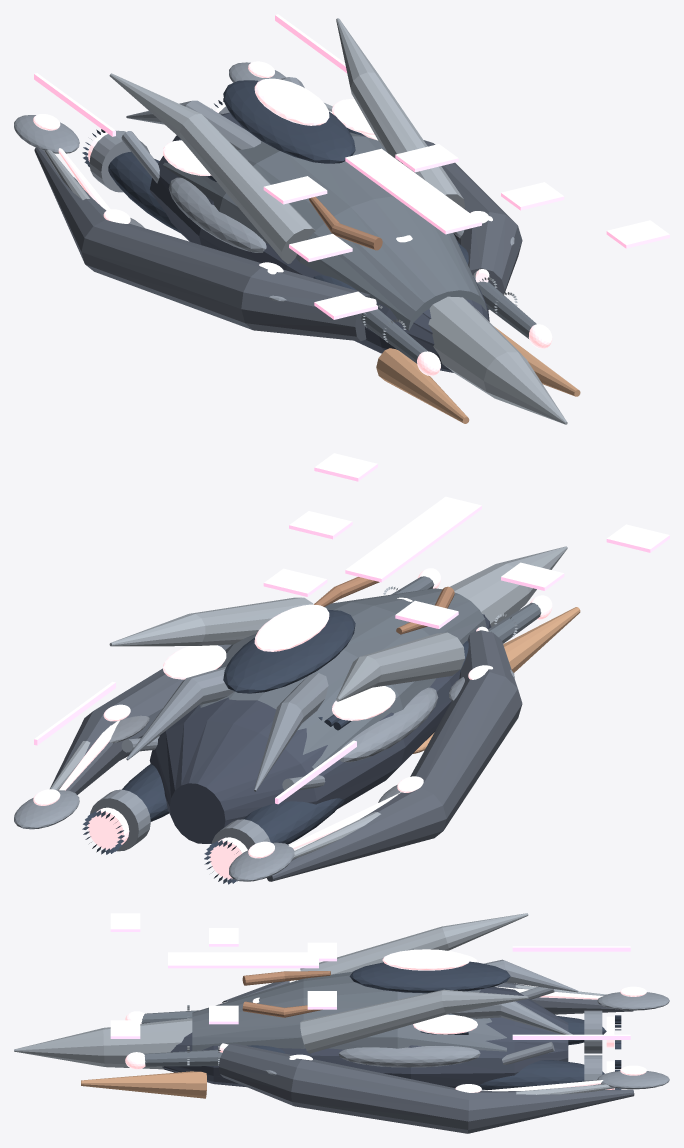
Rendered from npc_bossSaimon.glb.
The picture shows the model from 3 angles, top to bottom: view 1: azimuth 30°, elevation 25°; view 2: azimuth 150°, elevation 25°; view 3: azimuth 270°, elevation 25°; orthographic projection. The views are drawn at different scales.
Parts seen in each view (by area): view 1: upper_armor_scar, armored_scythe_-1, V59 trim baked, prime_arch_back_-1, zyron_stinger, prime_arch_back_1, prime_reactor_tower, keel_pressure_hull, armored_scythe_1, heavy_shield_pad_-1, prime_secondary_horn_-1, prime_emitter (+12 smaller); view 2: keel_pressure_hull, armored_scythe_-1, V59 trim baked, upper_armor_scar, prime_reactor_tower, prime_arch_back_-1, prime_arch_back_1, armored_scythe_1, zyron_stinger, zyron_upper_blade_-1, heavy_shield_pad_-1, zyron_upper_blade_1 (+18 smaller); view 3: armored_scythe_1, upper_armor_scar, V59 trim baked, keel_pressure_hull, prime_arch_back_1, zyron_stinger, prime_reactor_tower, prime_arch_back_-1, heavy_shield_pad_1, prime_secondary_horn_1, engine_armor_1, prime_emitter (+17 smaller).
Boxes of the visible parts, x1,y1,x2,y2 form: upper_armor_scar: (162, 128, 486, 330); armored_scythe_-1: (34, 148, 370, 341); V59 trim baked: (34, 14, 669, 319); prime_arch_back_-1: (109, 73, 315, 263); zyron_stinger: (428, 296, 567, 424); prime_arch_back_1: (336, 18, 464, 208); prime_reactor_tower: (223, 80, 355, 163); keel_pressure_hull: (150, 112, 489, 372); armored_scythe_1: (423, 140, 522, 309); heavy_shield_pad_-1: (168, 177, 266, 252); prime_secondary_horn_-1: (376, 348, 469, 423); prime_emitter: (254, 78, 329, 125); keel_pressure_hull: (149, 614, 491, 843); armored_scythe_-1: (267, 630, 522, 881); V59 trim baked: (34, 453, 669, 804); upper_armor_scar: (200, 588, 486, 769); prime_reactor_tower: (223, 610, 355, 693); prime_arch_back_-1: (336, 632, 464, 701); prime_arch_back_1: (109, 597, 313, 646); armored_scythe_1: (50, 644, 231, 794); zyron_stinger: (450, 546, 567, 626); zyron_upper_blade_-1: (254, 673, 328, 791); heavy_shield_pad_-1: (339, 687, 438, 762); zyron_upper_blade_1: (126, 666, 234, 760); armored_scythe_1: (218, 1043, 634, 1133); upper_armor_scar: (192, 971, 506, 1051); V59 trim baked: (110, 913, 630, 1039); keel_pressure_hull: (162, 986, 568, 1088); prime_arch_back_1: (300, 989, 528, 1053); zyron_stinger: (14, 1018, 192, 1069); prime_reactor_tower: (349, 961, 510, 993); prime_arch_back_-1: (300, 913, 528, 974); heavy_shield_pad_1: (339, 1046, 480, 1067); prime_secondary_horn_1: (81, 1071, 206, 1098); engine_armor_1: (479, 1060, 604, 1089); prime_emitter: (382, 949, 470, 970).
Bounding box in the file's own units: 2.82 × 1.29 × 5.85.
